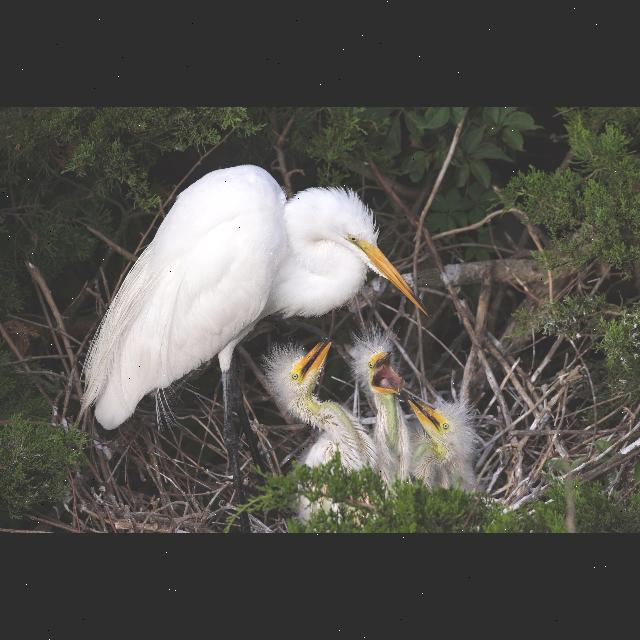egret: (81, 164, 425, 482)
